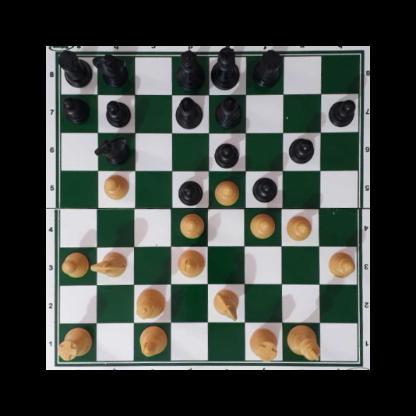black-bishop: (175, 97, 204, 129), (216, 97, 243, 129)
black-king: (213, 47, 239, 92)
black-knight: (92, 54, 130, 89), (97, 136, 129, 166)
black-pawn: (329, 98, 356, 127), (62, 96, 90, 123), (288, 136, 315, 164), (215, 139, 240, 167), (252, 175, 277, 203), (105, 98, 129, 127), (178, 178, 203, 205)
black-queen: (175, 50, 206, 90)
black-rook: (57, 49, 92, 88), (252, 48, 284, 89)
white-bishop: (139, 325, 166, 358), (178, 248, 206, 277)
white-king: (286, 324, 321, 361)
white-knight: (90, 251, 129, 280), (213, 288, 241, 321)
white-pawn: (326, 250, 355, 279), (103, 172, 130, 201), (286, 212, 312, 241), (62, 252, 90, 277), (249, 212, 275, 238), (213, 179, 240, 204), (179, 212, 204, 238)
white-queen: (136, 286, 164, 321)
white-rook: (57, 326, 92, 360), (249, 329, 279, 361)
